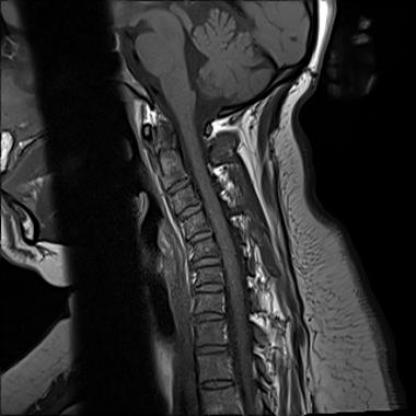Disc Bulgerotation: (191, 255, 223, 270), (186, 229, 215, 245)
